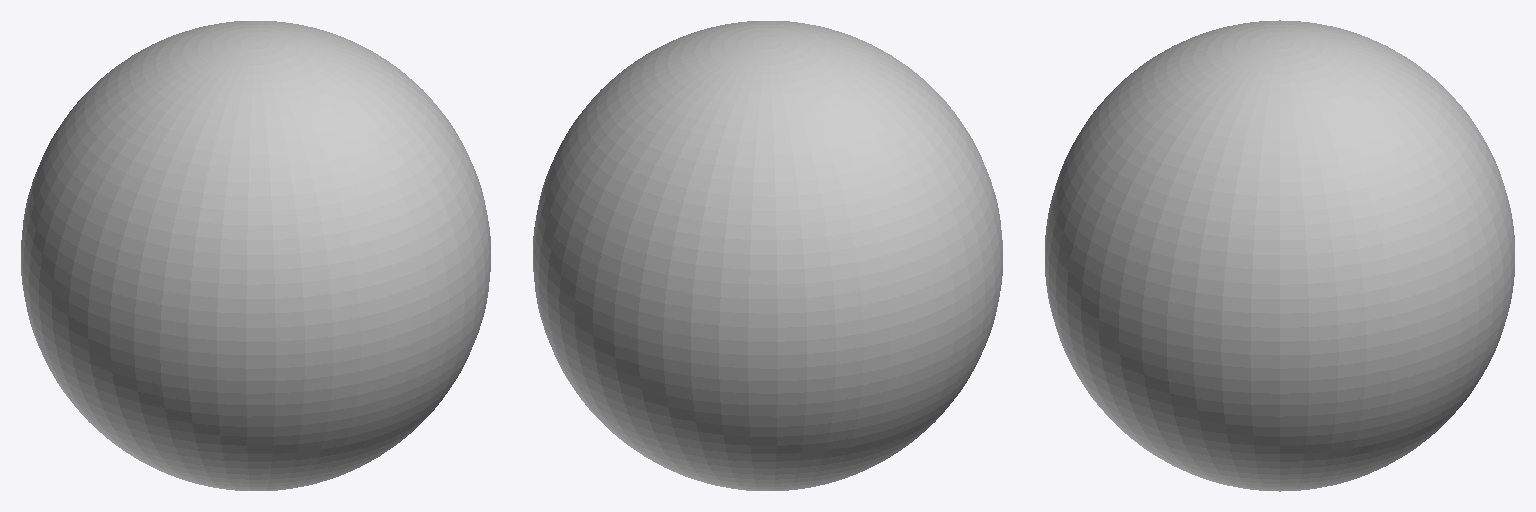
Rendered from Mars.obj.
3 renders of one model, left to right at view 1: azimuth 30°, elevation 25°; view 2: azimuth 150°, elevation 25°; view 3: azimuth 270°, elevation 25°, orthographic.
Parts seen in each view (by area): view 1: pSphere5; view 2: pSphere5; view 3: pSphere5.
Part boxes in pixels (bbox=[...]): pSphere5: bbox=[21, 21, 490, 490]; pSphere5: bbox=[533, 21, 1002, 490]; pSphere5: bbox=[1045, 20, 1514, 491].
Bounding box in the file's own units: 1.6 × 1.6 × 1.6.